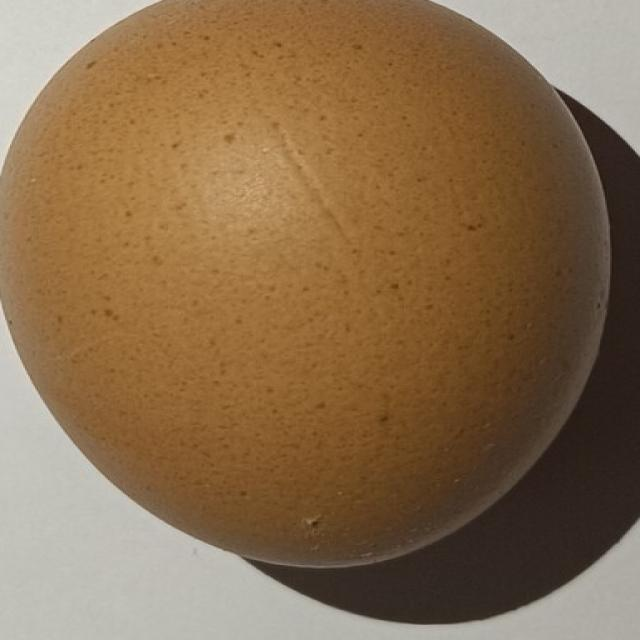unfresh: (0, 0, 602, 576)
